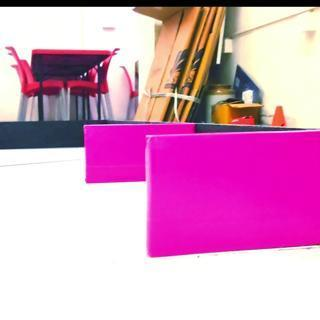xparking: (145, 131, 320, 251), (82, 122, 143, 182)
